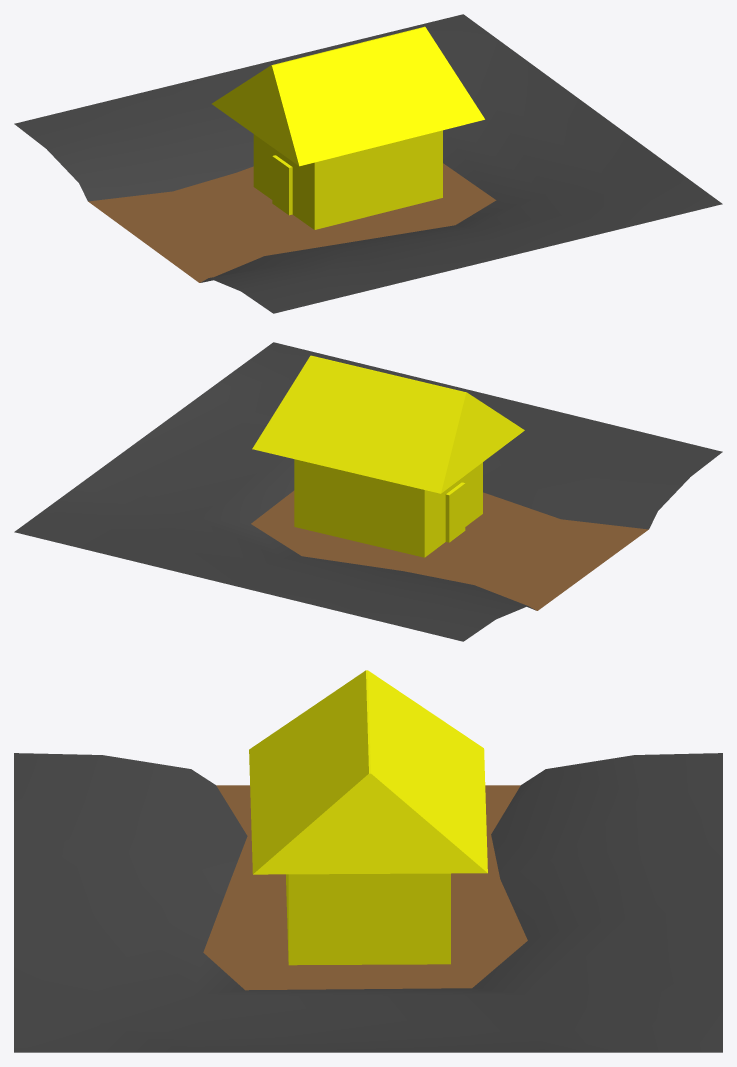
The model's file is map_ground_path_s.obj.
3 views of the same model, one above another, from view 1: azimuth 30°, elevation 25°; view 2: azimuth 150°, elevation 25°; view 3: azimuth 270°, elevation 25° (orthographic). The views are drawn at different scales.
Visible parts, largest first — view 1: ground_path_s; view 2: ground_path_s; view 3: ground_path_s.
Boxes of the visible parts, left/top/right/bottom form: ground_path_s: left=14, top=14, right=722, bottom=313; ground_path_s: left=14, top=342, right=722, bottom=641; ground_path_s: left=14, top=670, right=722, bottom=1052.
Bounding box in the file's own units: 2 × 0.6452 × 2.
Materials: 1 (1 with a texture image).
